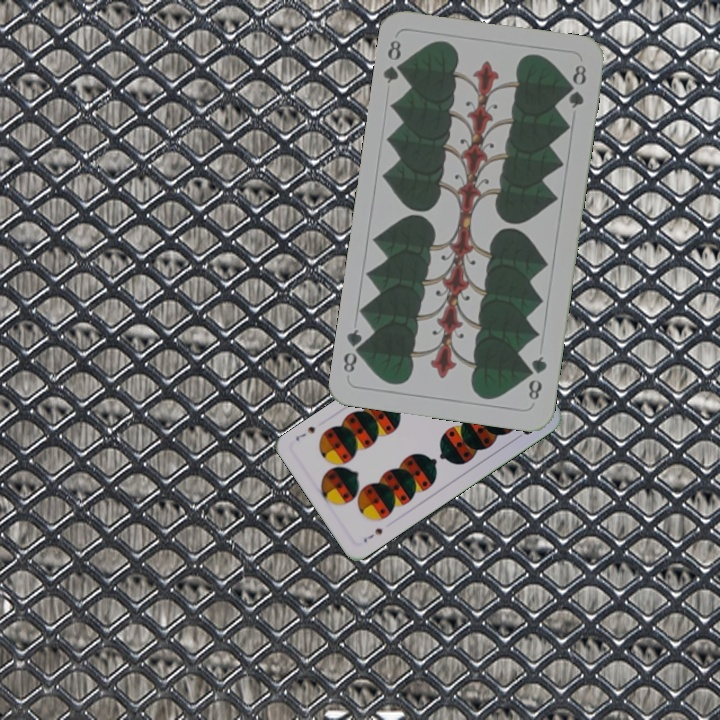G8: (379, 36, 409, 86), (524, 352, 550, 403)
S7: (359, 524, 385, 545)
